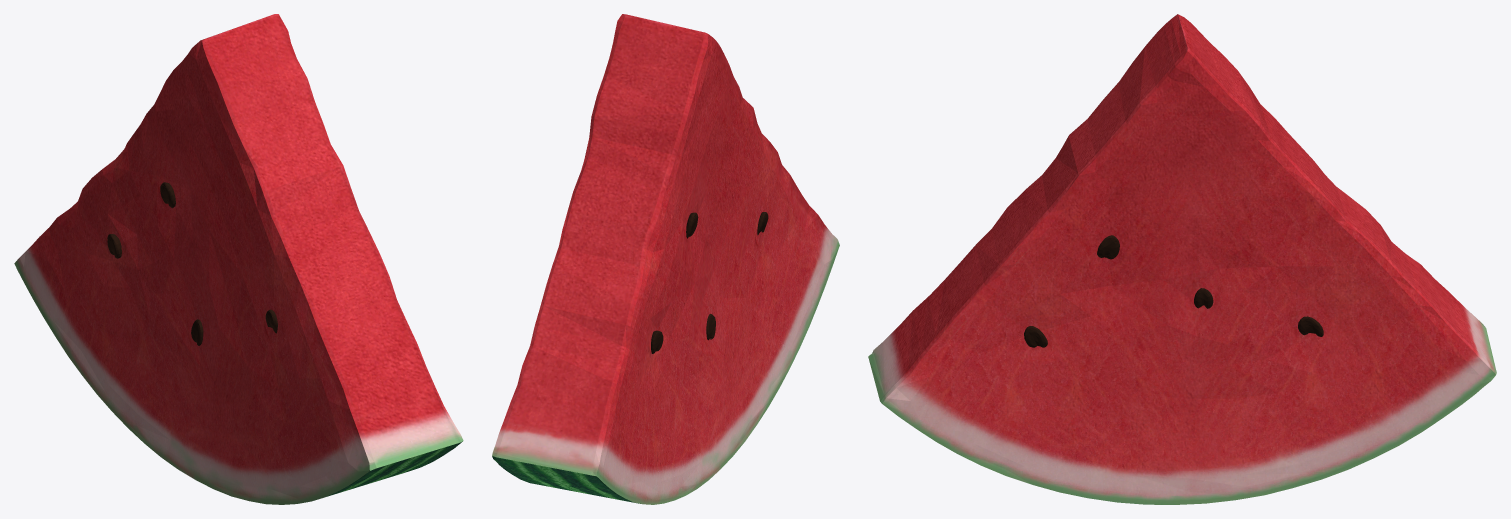
Rendered from watermelon .fbx.
The picture shows the model from 3 angles, left to right: view 1: azimuth 30°, elevation 25°; view 2: azimuth 150°, elevation 25°; view 3: azimuth 270°, elevation 25°; orthographic projection. The views are drawn at different scales.
Parts seen in each view (by area): view 1: node_id171; view 2: node_id171; view 3: node_id171.
Boxes of the visible parts, box(x1,y1,x2,y2) form: node_id171: box(14, 14, 463, 504); node_id171: box(492, 14, 839, 504); node_id171: box(868, 14, 1496, 504).
Size of the model in its own units: 18.95 by 51.2 by 64.85.
